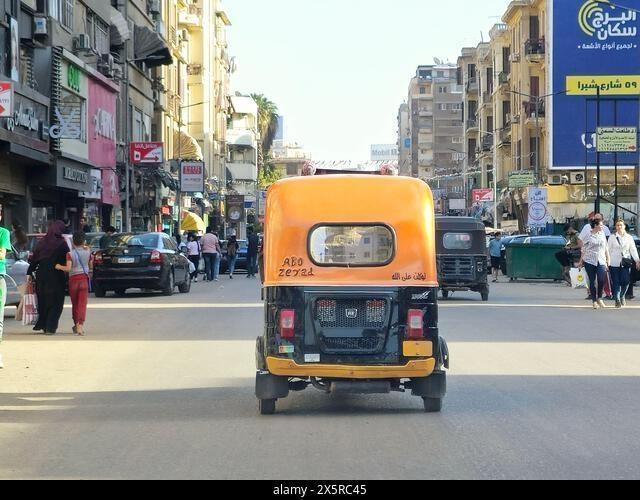keke: (246, 165, 452, 419)
